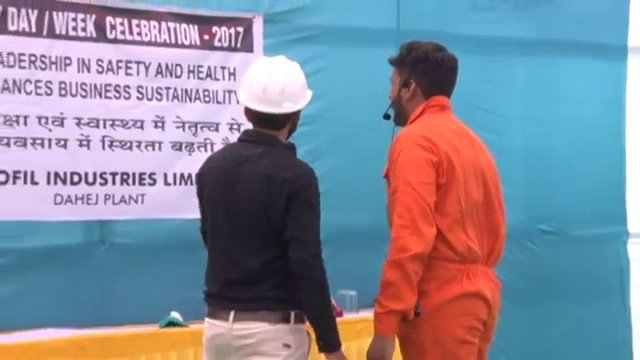helmet: (237, 54, 314, 115)
helmet_off: (382, 40, 459, 134)
helmet_on: (235, 53, 314, 141)
person: (194, 52, 349, 360), (367, 38, 509, 360)
